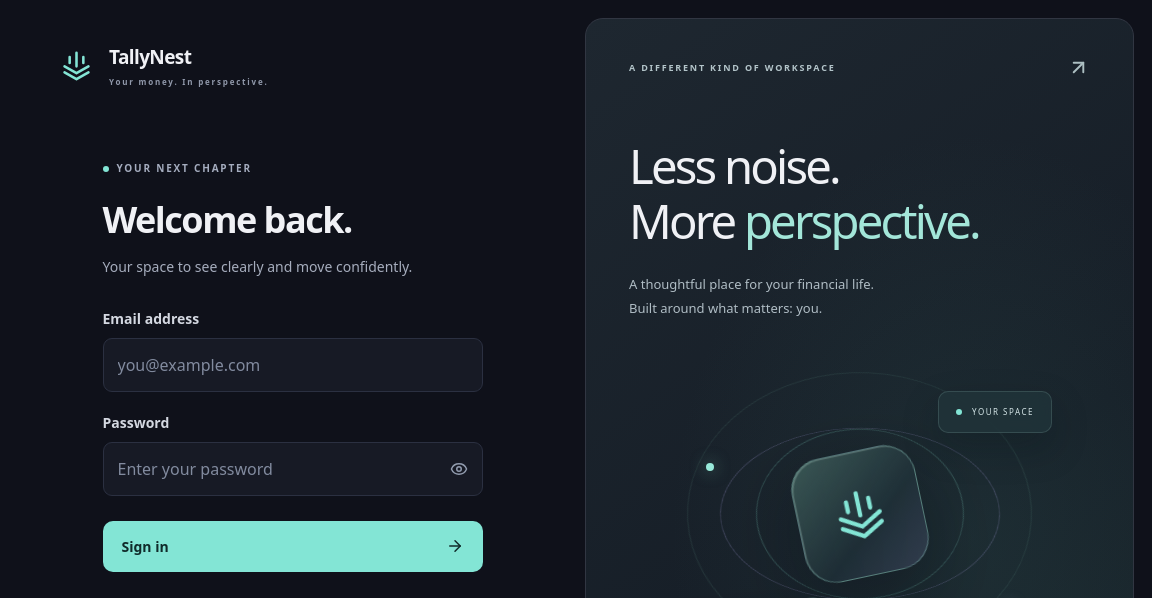
Test: authentication screens and protected routes › signs in and navigates to the authenticated workspace
Type "alex@example.com" into the field labelled "Email address" at (292, 365), box [104,339,482,391]
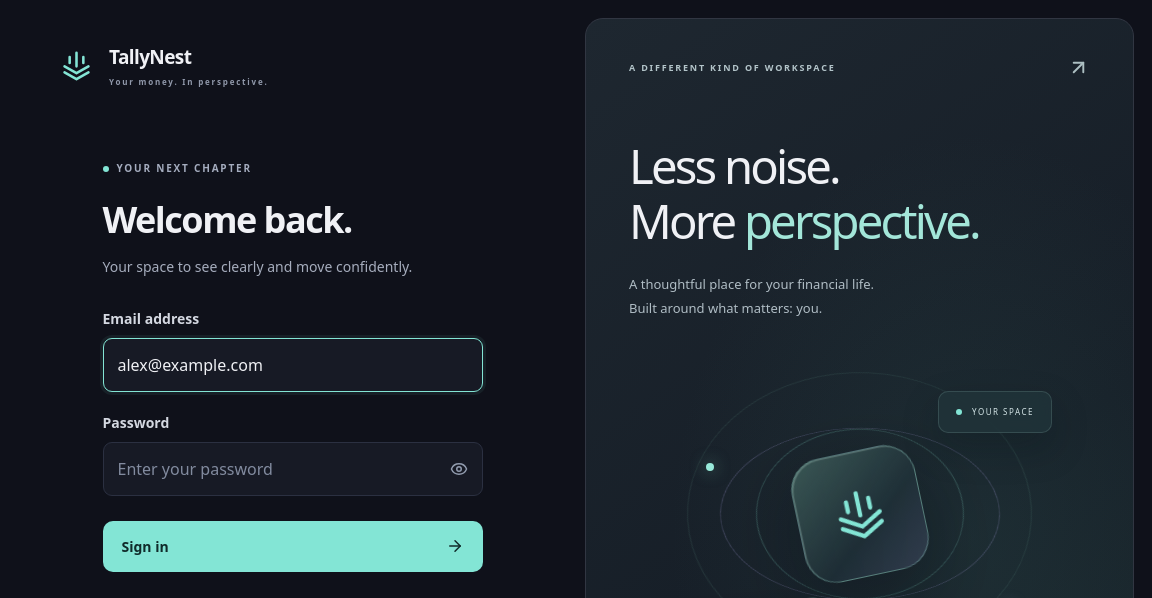
Type "correct horse battery" into the password field labelled "Password" at (270, 469), box [104,443,438,495]
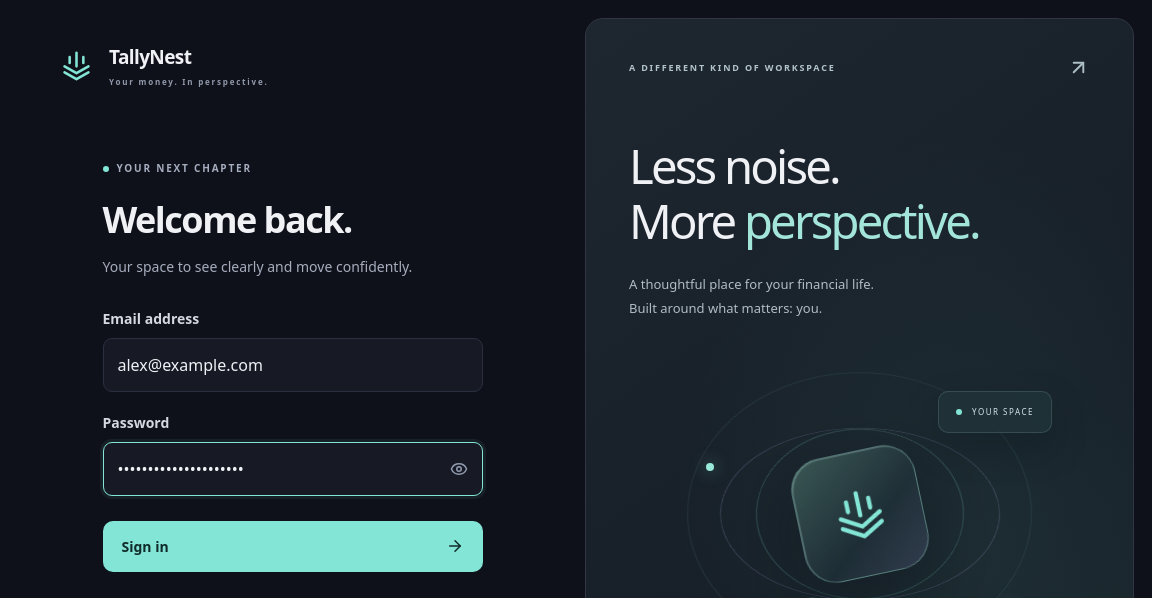
Click the button "Sign in" at (145, 546), box [102,521,482,572]
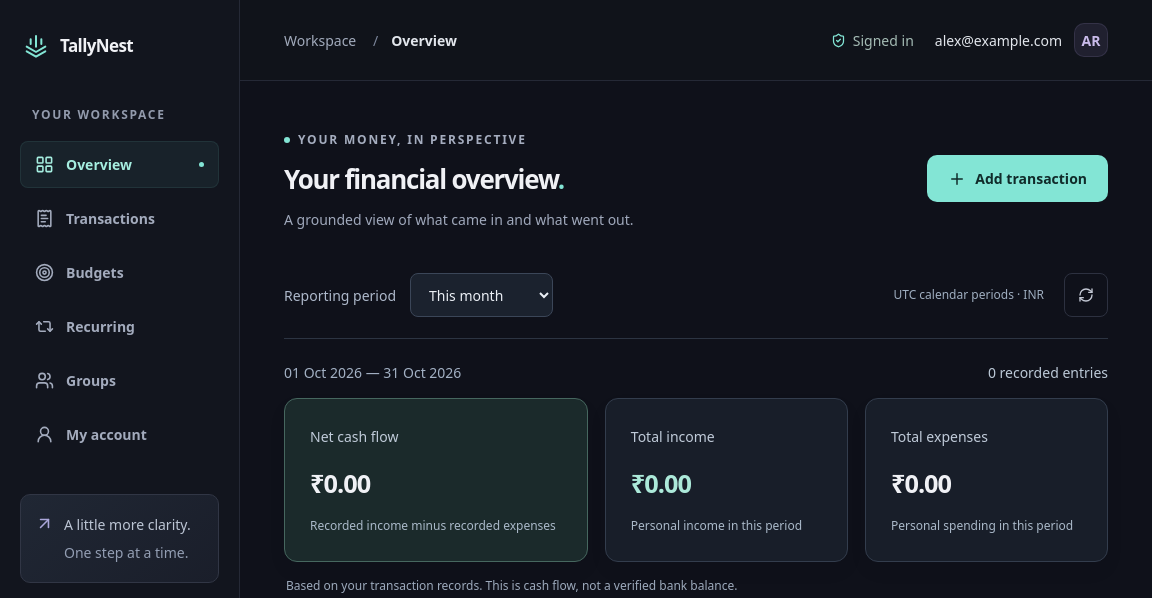
Now the heading "Your financial overview." is shown, box [284,161,564,197]
